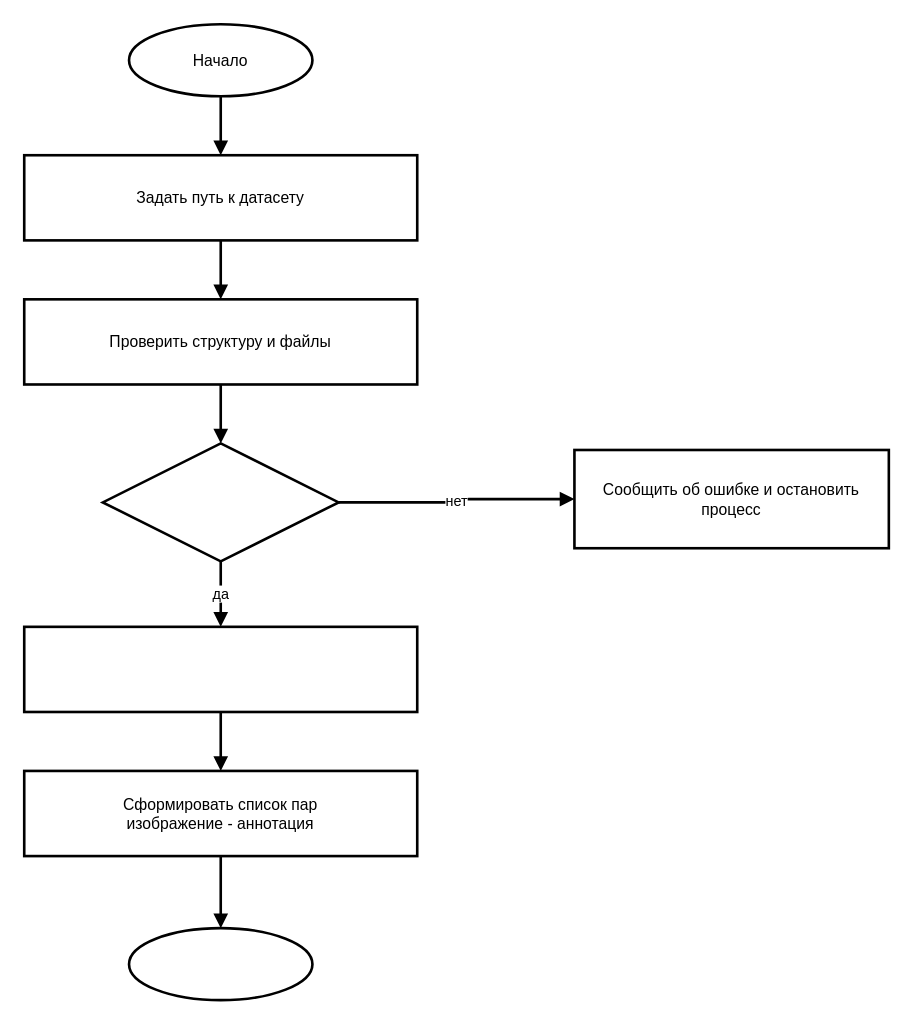
Image size: 912x1023. Some labels were removed from this diagram. The shapes that lost their labels are listed below. From the top down, each one's centre as x and y in pixels, then its label:
At point 220,501: "Датасет корректен?".
At point 220,669: "Прочитать аннотации и изображения".
At point 220,963: "Конец".
